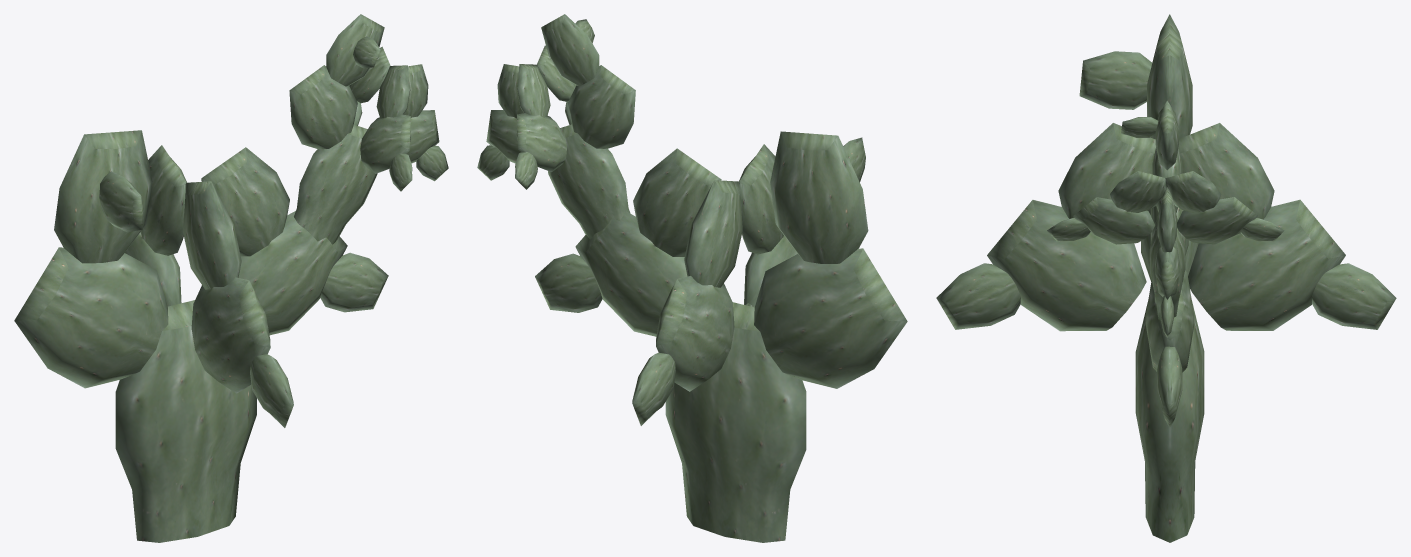
Rendered from nopal_b.dae.
3 renders of one model, left to right at view 1: azimuth 30°, elevation 25°; view 2: azimuth 150°, elevation 25°; view 3: azimuth 270°, elevation 25°, orthographic. The views are drawn at different scales.
Parts seen in each view (by area): view 1: Circle.002; view 2: Circle.002; view 3: Circle.002.
Part boxes in pixels (<box>): Circle.002: <box>14,14,448,542</box>; Circle.002: <box>477,14,907,542</box>; Circle.002: <box>936,14,1396,542</box>.
Bounding box in the file's own units: 5.88 × 5.05 × 6.14.
